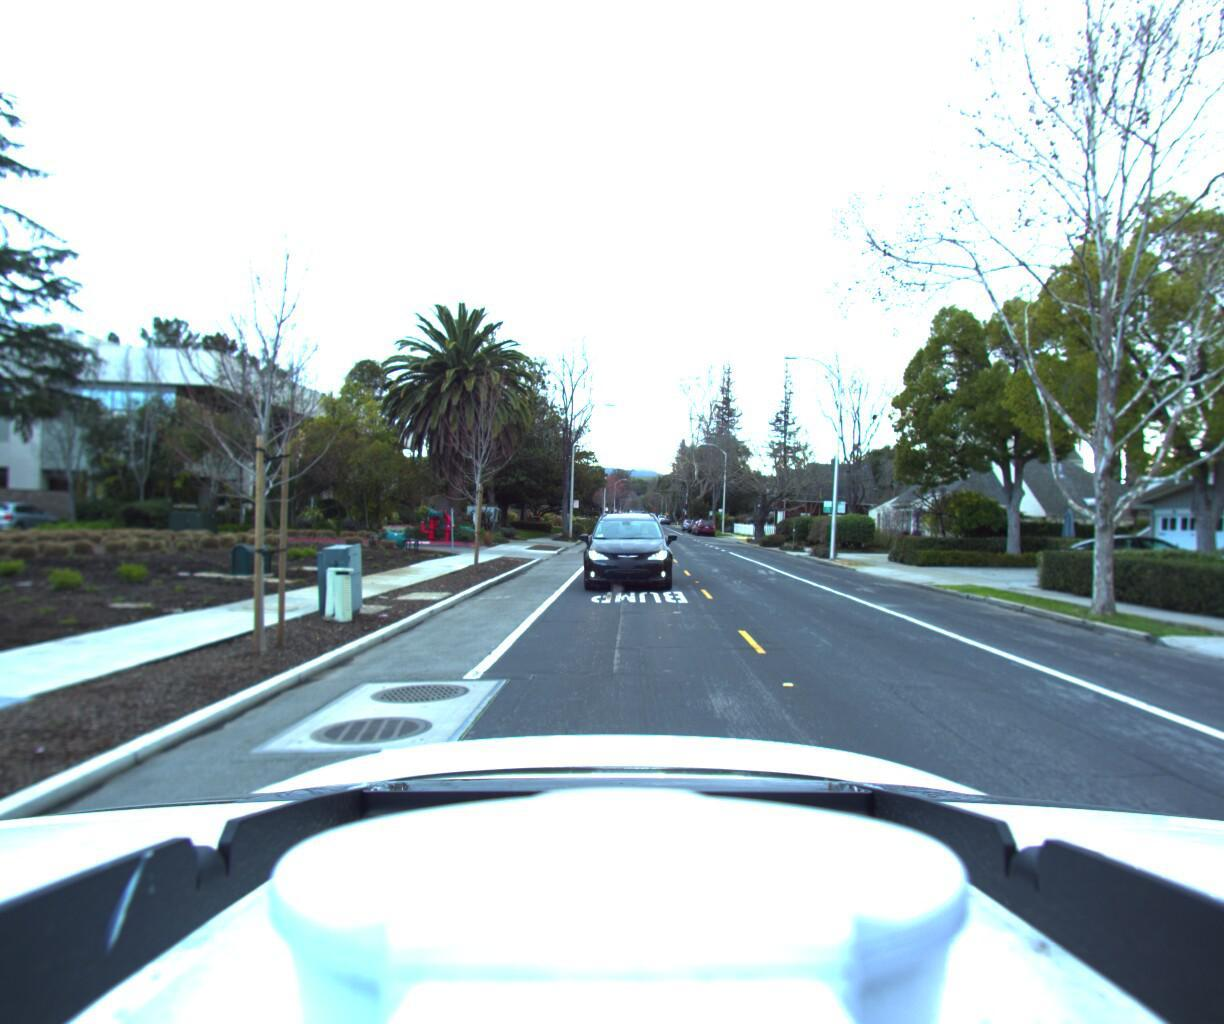car: (1044, 524, 1224, 582), (578, 507, 671, 595), (695, 516, 716, 535)
